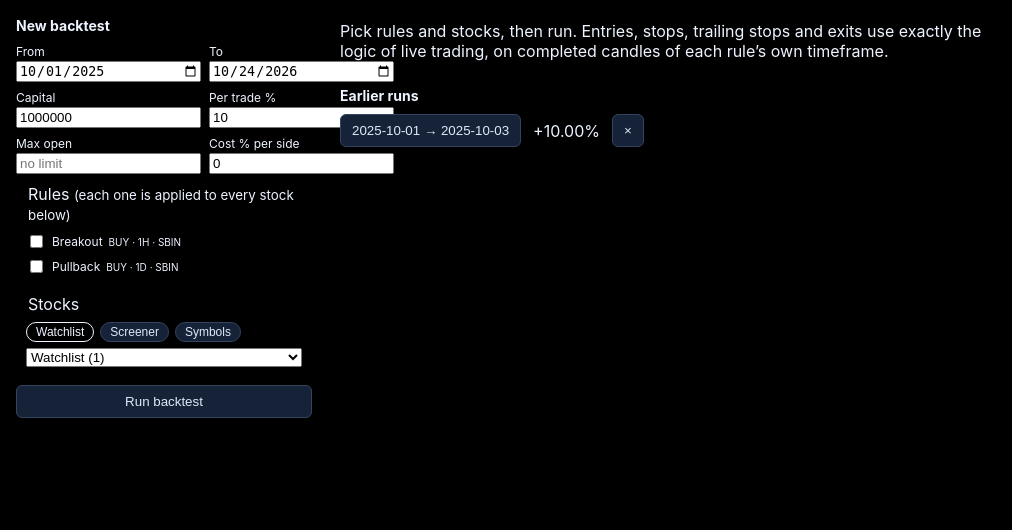
Test case: BacktestView › a period without trades says so
Step 1. Click the checkbox labelled "Breakout BUY · 1H · SBIN" → (36, 242), box [30, 235, 43, 248]
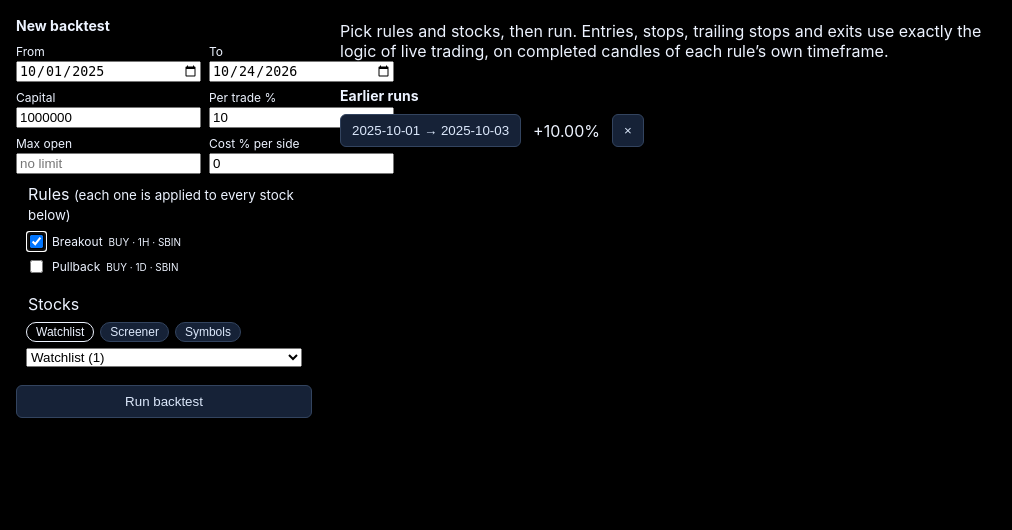
Step 2. Click the button "Run backtest" → (164, 402), box [16, 385, 312, 418]
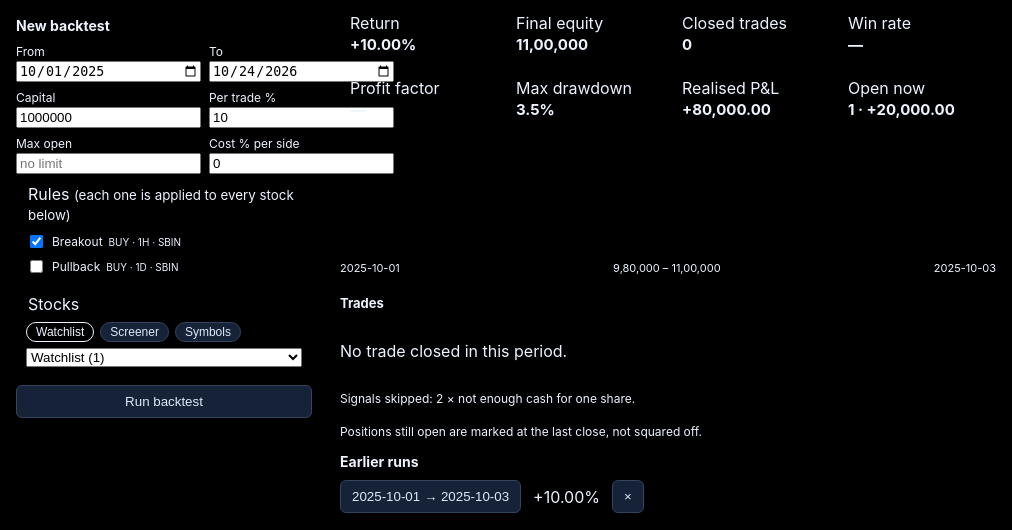
Expected: the text "No trade closed in this period." is shown, [340, 341, 567, 361]
